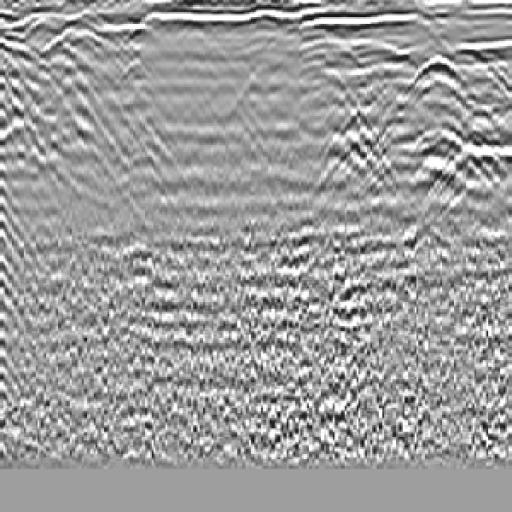non-metallic: (323, 32, 512, 279)
